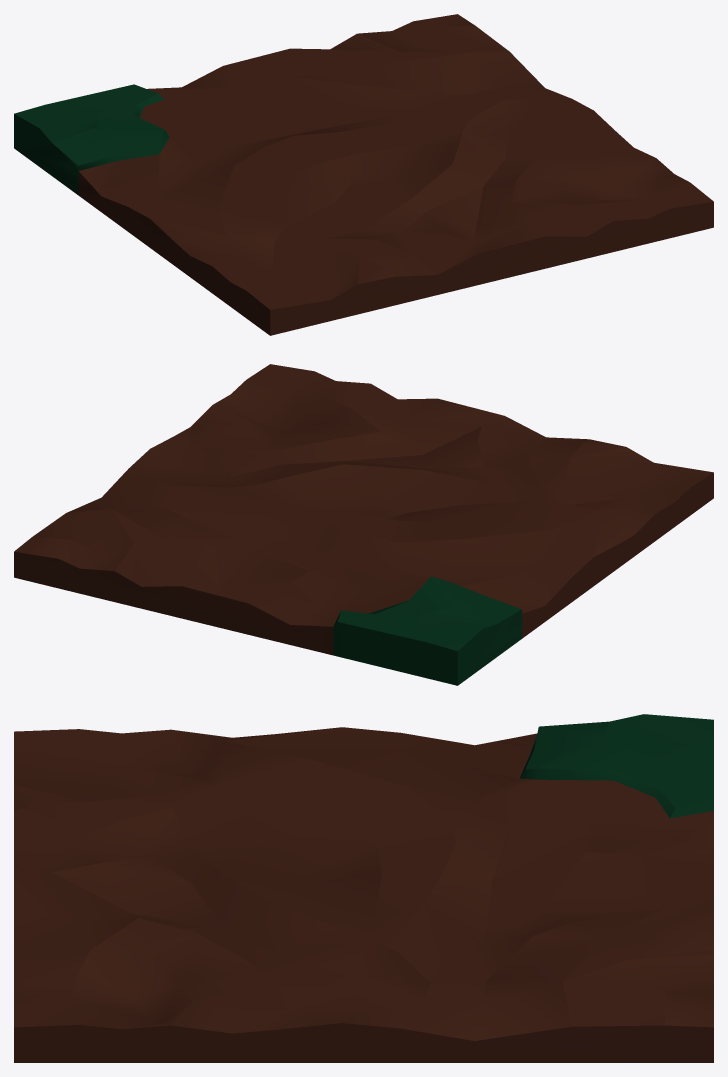
File: Ground_Corner_External_LU.fbx
3 views of the same model, one above another, from view 1: azimuth 30°, elevation 25°; view 2: azimuth 150°, elevation 25°; view 3: azimuth 270°, elevation 25° (orthographic). The views are drawn at different scales.
Visible parts, largest first — view 1: Ground_Corner_External_LU; view 2: Ground_Corner_External_LU; view 3: Ground_Corner_External_LU.
Boxes of the visible parts, x1=… form: Ground_Corner_External_LU: x1=14, y1=14, x2=713, y2=335; Ground_Corner_External_LU: x1=14, y1=364, x2=713, y2=685; Ground_Corner_External_LU: x1=14, y1=714, x2=713, y2=1062.
Bounding box in the file's own units: 147 × 13.39 × 147.
